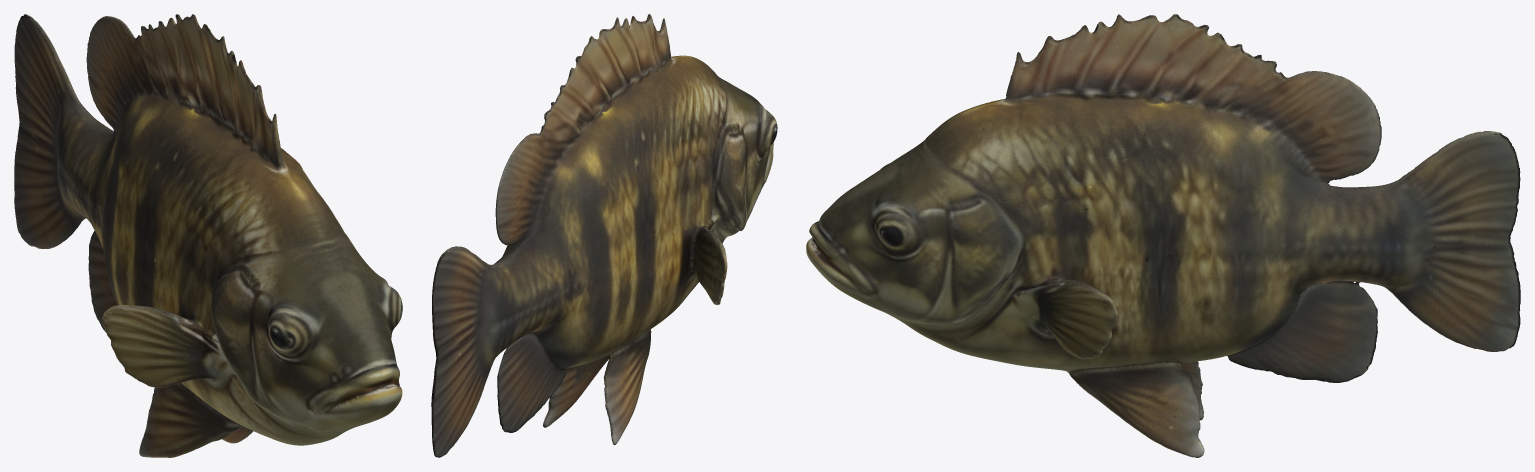
Rendered from ClimbingPerch.glb.
3 views of the same model, side by side, from view 1: azimuth 30°, elevation 25°; view 2: azimuth 150°, elevation 25°; view 3: azimuth 270°, elevation 25° (orthographic). The views are drawn at different scales.
Size of the model in its own units: 0.76 by 1.31 by 2.
1 material, 1 textured.
